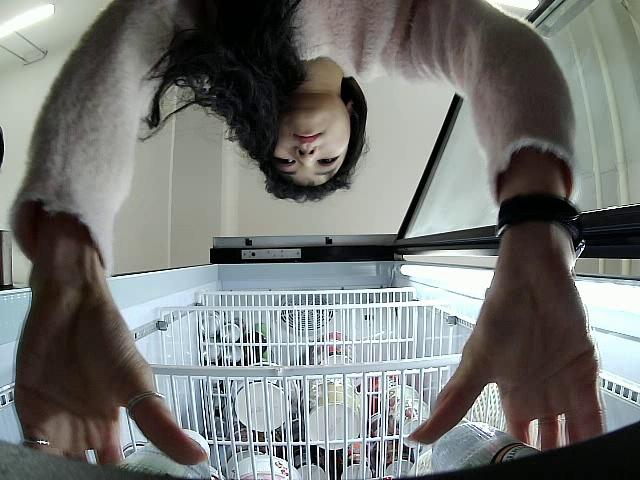00_hand: (407, 249, 607, 453), (12, 291, 206, 467)
